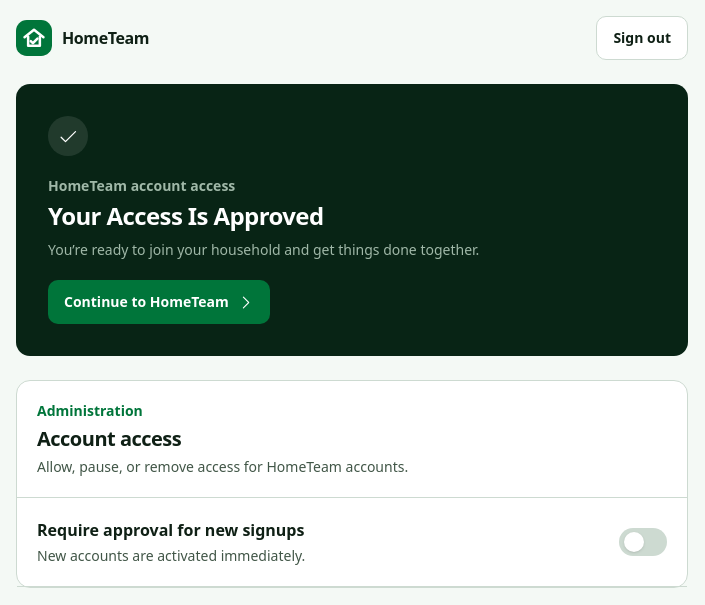
Test: AccessStatusScreen › lets an administrator require approval for future signups
The width and height of the screenshot is (705, 605).
Expected: the text "New accounts are activated immediately." is shown, [37,546,305,566]
What coordinates should you click on to do the following:
click the switch named "Require approval for new signups"
I would click on:
 (643, 542)
Its box is [619,528,667,556].
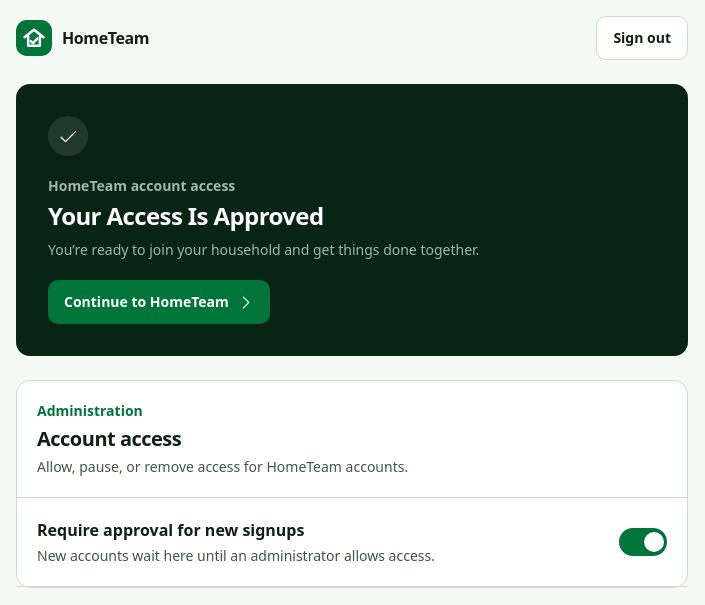
Result: the switch named "Require approval for new signups" is checked at [619,528,667,556]
Result: the text "New accounts wait here until an administrator allows access." is shown at [37,546,435,566]
